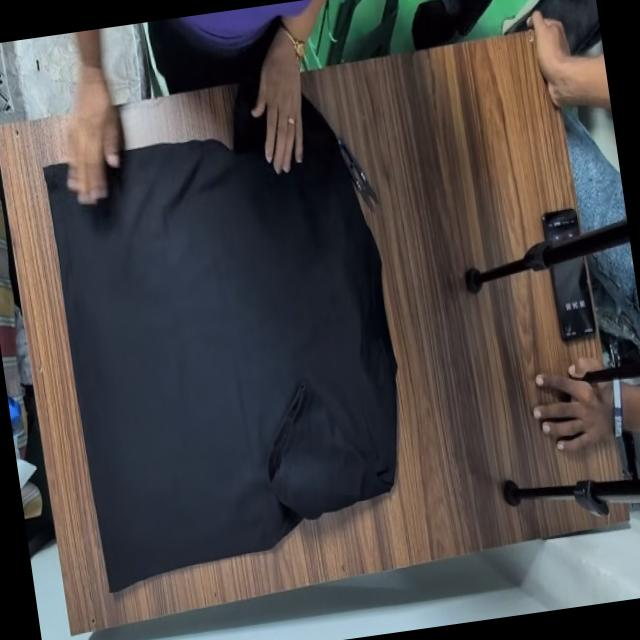new-garment: (45, 105, 397, 590)
